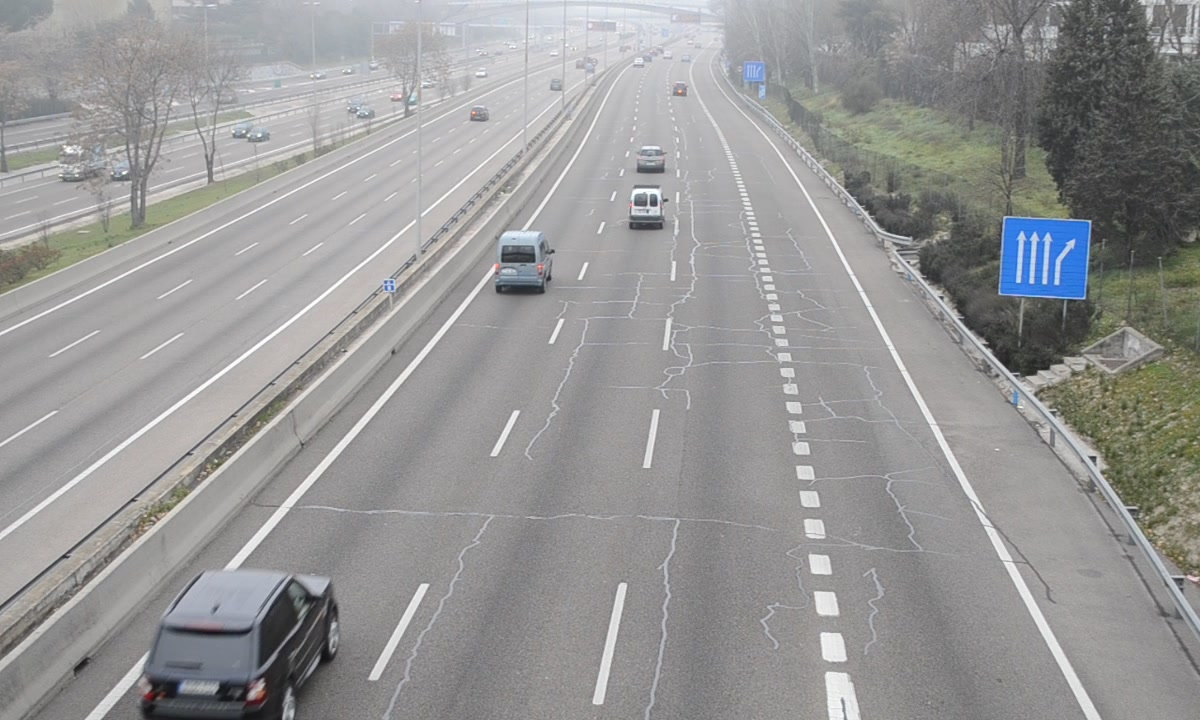car: (137, 567, 337, 720), (636, 145, 666, 172)
van: (495, 230, 554, 290), (629, 182, 667, 232)
